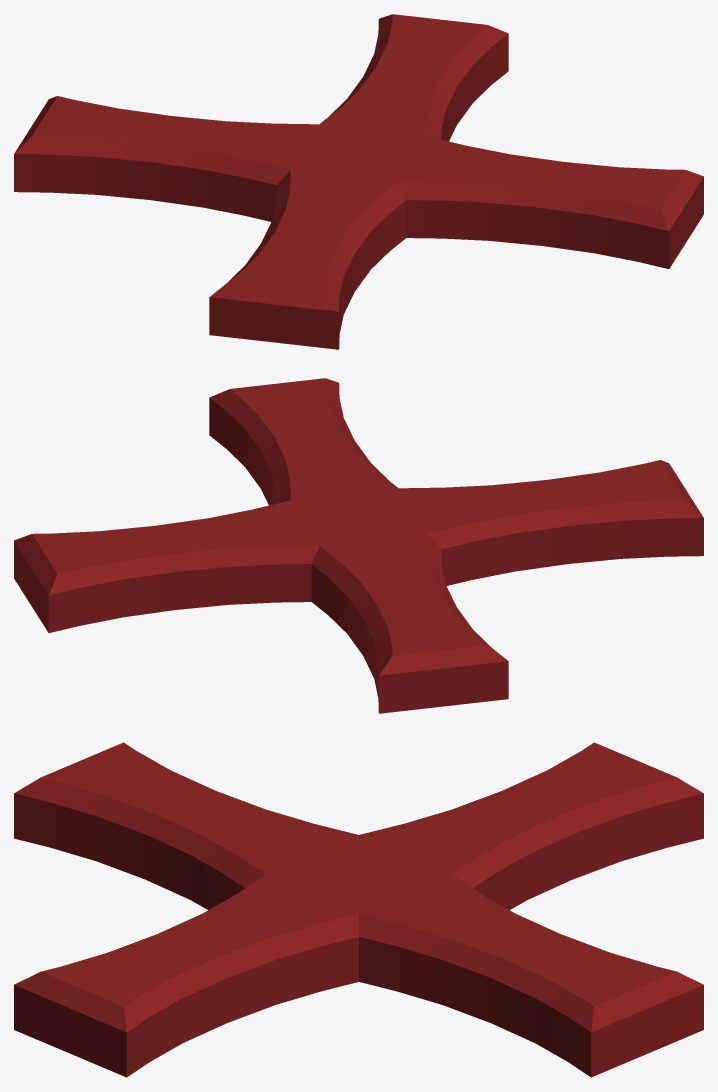
File: Red X.glb
3 renders of one model, top to bottom at view 1: azimuth 30°, elevation 25°; view 2: azimuth 150°, elevation 25°; view 3: azimuth 270°, elevation 25°, orthographic. The views are drawn at different scales.
Parts seen in each view (by area): view 1: UI_Red_X; view 2: UI_Red_X; view 3: UI_Red_X.
Boxes of the visible parts, box(x1,y1,x2,y2) form: UI_Red_X: box(14, 14, 703, 349); UI_Red_X: box(14, 378, 703, 713); UI_Red_X: box(14, 742, 703, 1077).
Bounding box in the file's own units: 1.1 × 0.1064 × 1.11.
1 material, 1 textured.
